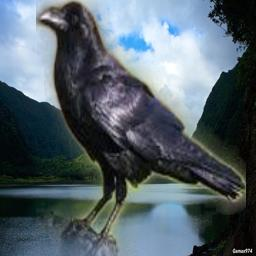Crow: (36, 0, 246, 256)
